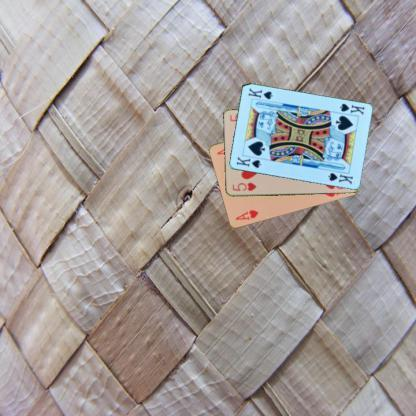5h: (230, 180, 257, 192)
Ah: (232, 208, 260, 222)
Ks: (233, 154, 262, 170), (336, 101, 366, 116)
